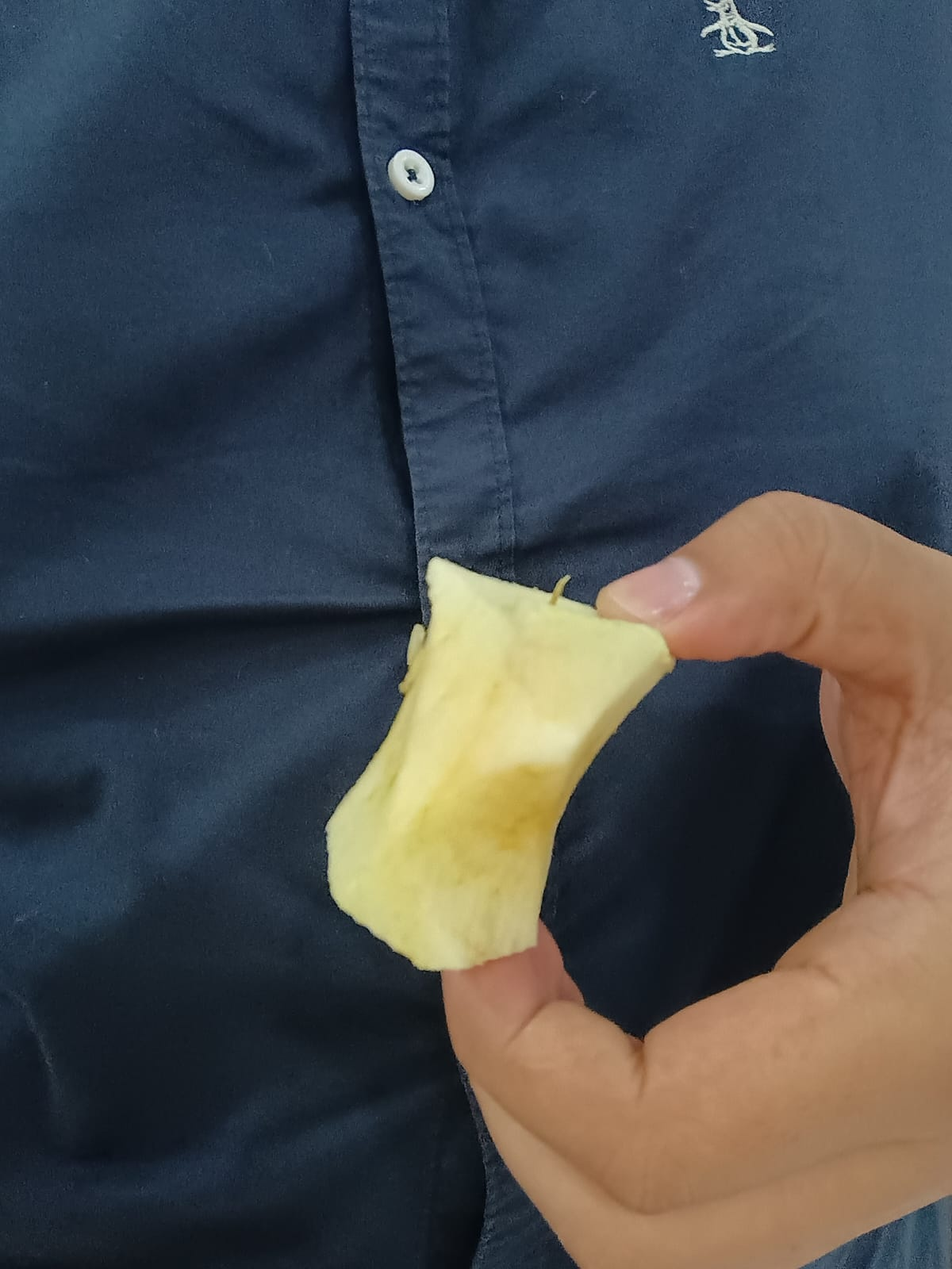Organico: (324, 558, 674, 975)
